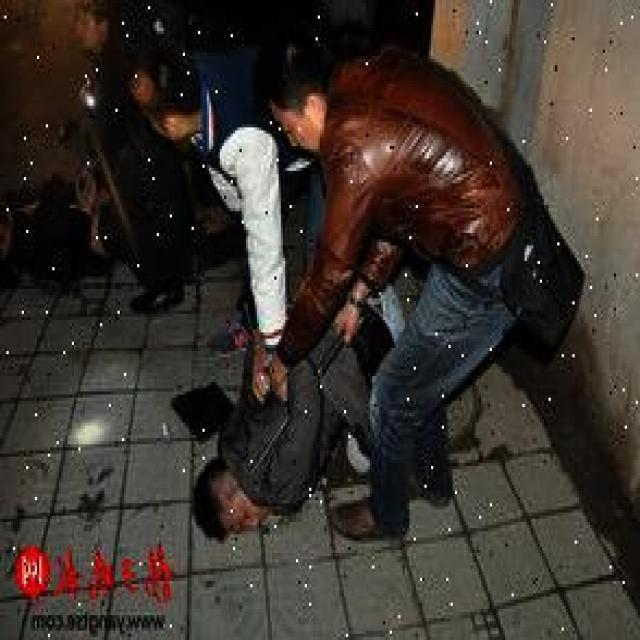fall: (192, 317, 378, 537)
